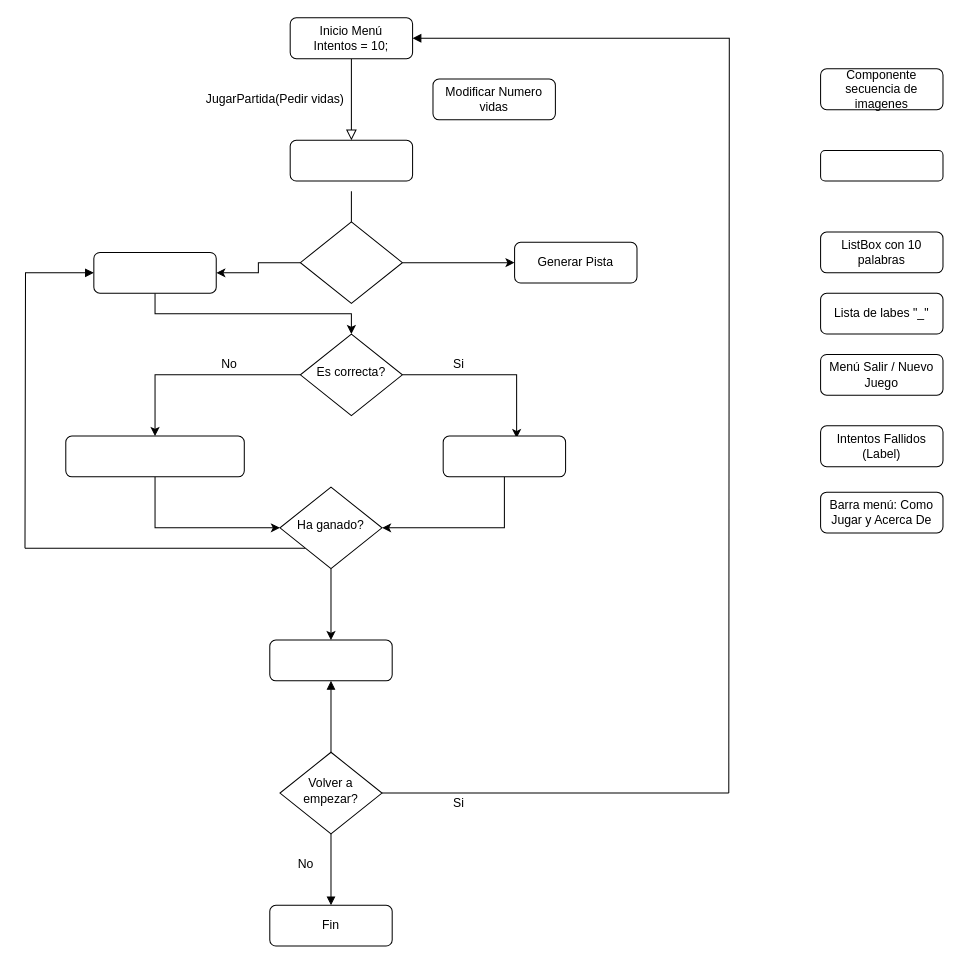
Image size: 961x964. Some labels were removed from this diagram. The shapes that lost their labels are listed below. From the top down, each one's centre as x and y in pixels, then its label:
At pixel 351 160: "Se genera y se oculta la plabra".
At pixel 881 165: "Habilitar/Deshabilitar botones a la vez".
At pixel 154 272: "Se introduce una letra".
At pixel 350 262: "Alternativa".
At pixel 154 456: "Mostrar una secuencia imagen Inhabilitar el botón de la letra Restar Intentos".
At pixel 504 456: "Se muestra la letra".
At pixel 330 660: "Mostrar imagen victoria/derrota".
